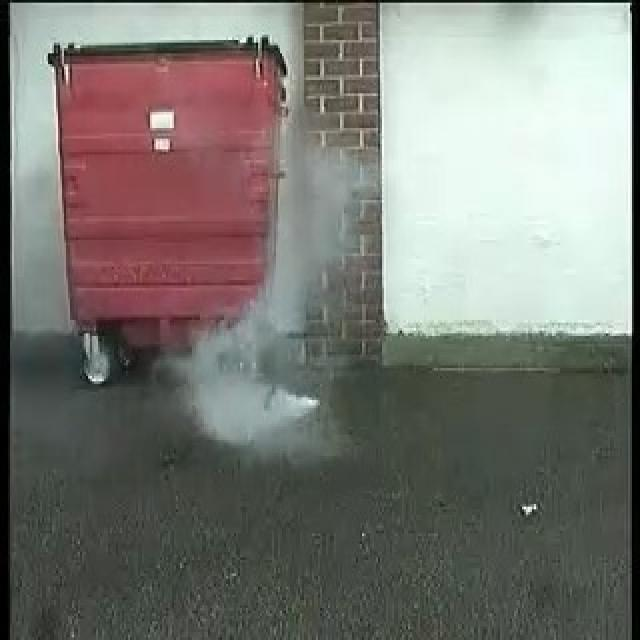smoke: (184, 227, 320, 444)
